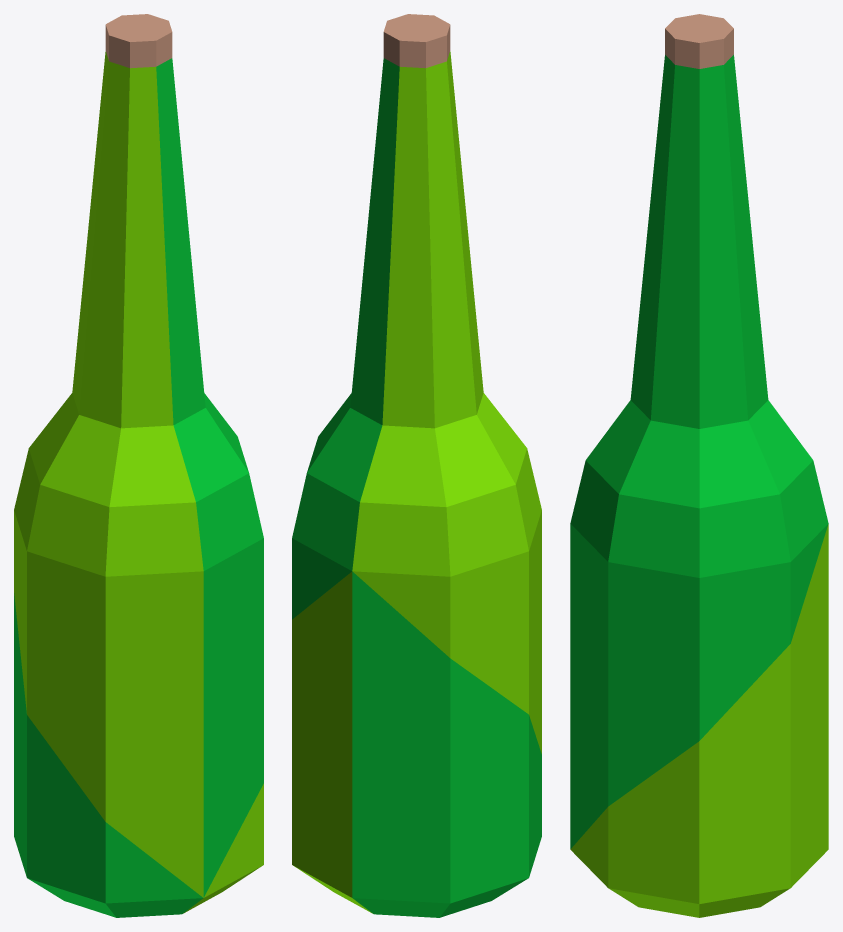
The model's file is Beer.fbx.
The picture shows the model from 3 angles, left to right: view 1: azimuth 30°, elevation 25°; view 2: azimuth 150°, elevation 25°; view 3: azimuth 270°, elevation 25°; orthographic projection.
Parts seen in each view (by area): view 1: Beer; view 2: Beer; view 3: Beer.
Boxes of the visible parts, x1=… form: Beer: x1=14, y1=14, x2=263, y2=917; Beer: x1=292, y1=14, x2=541, y2=917; Beer: x1=570, y1=14, x2=828, y2=917.
Bounding box in the file's own units: 0.09 × 0.328 × 0.09.
